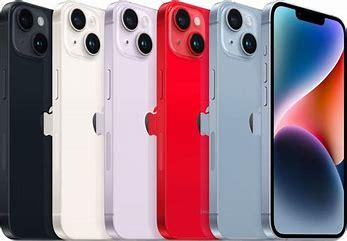-iphone13: (1, 2, 347, 241)
